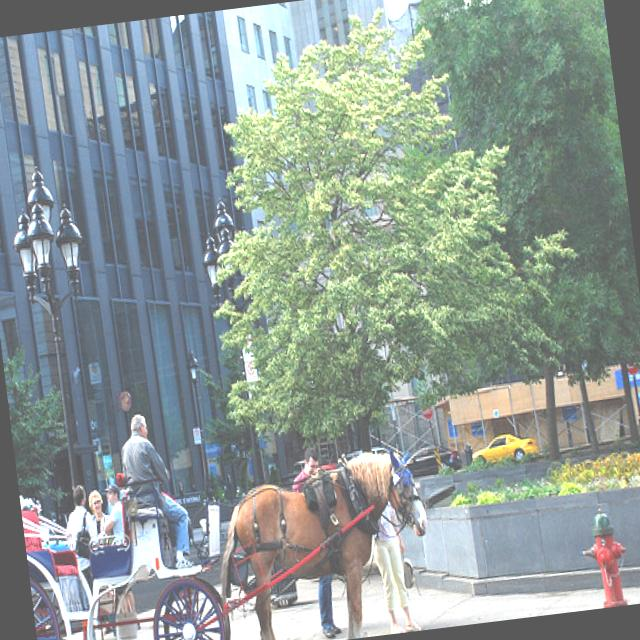Vehicle: (470, 429, 540, 468), (404, 440, 464, 476)
